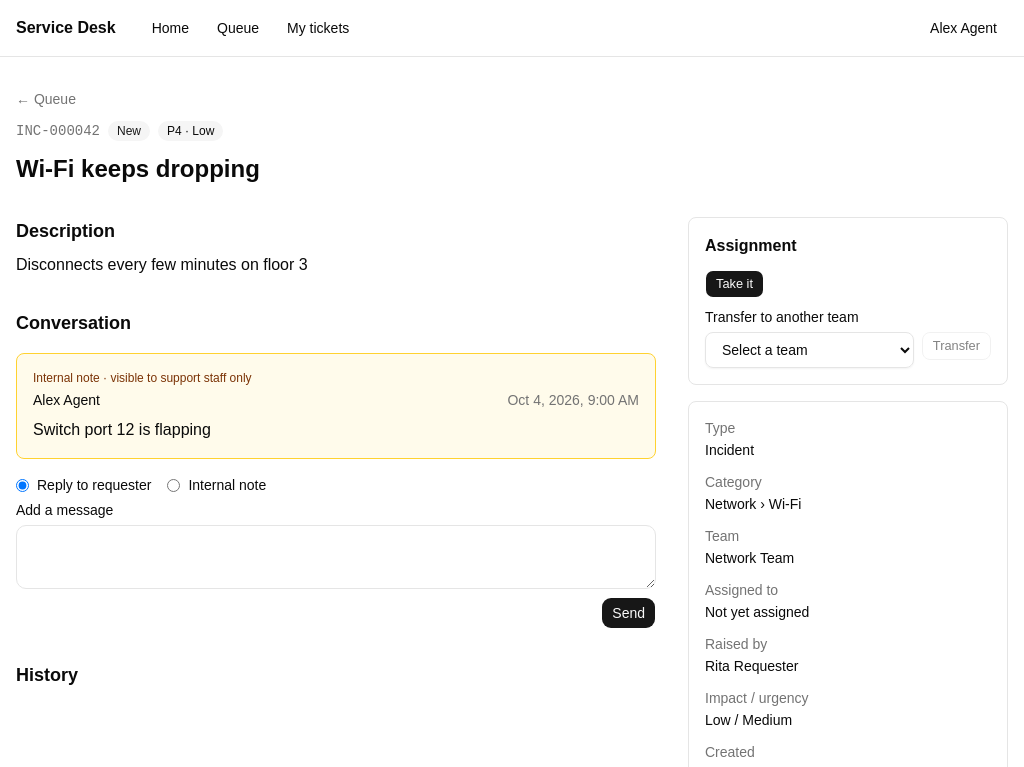
it: ticket page for support staff › takes an unassigned ticket from the team queue
This screenshot has width=1024, height=767.
Click the button "Take it" at (734, 284), box [705, 270, 764, 298]
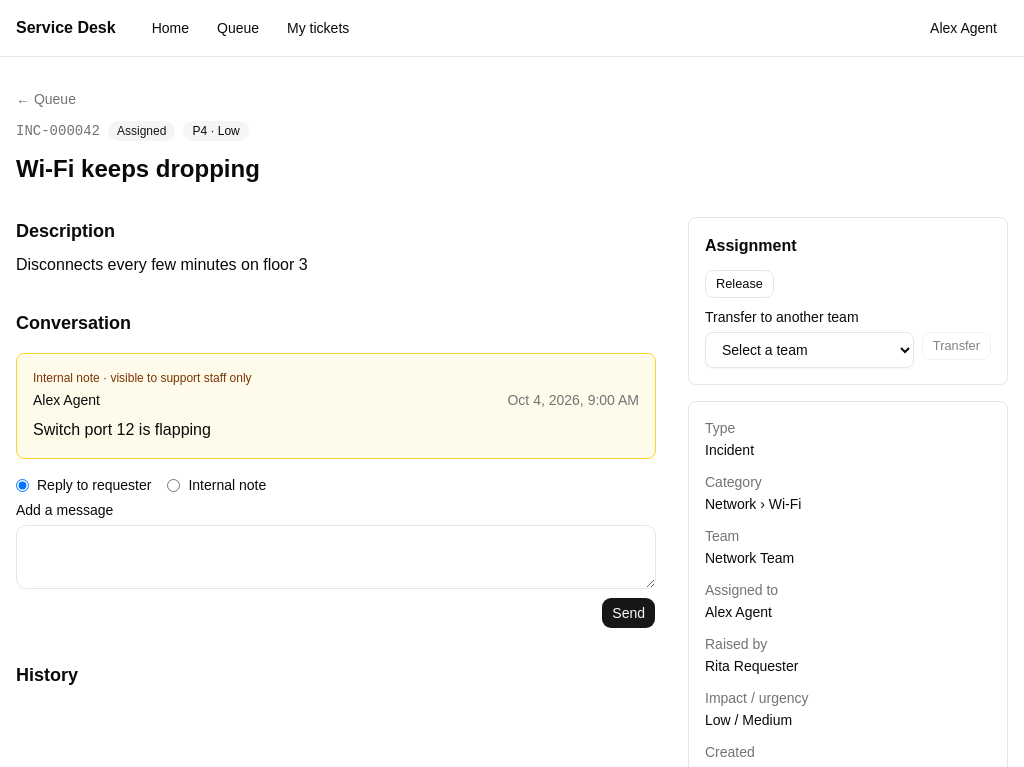
Expected: the button "Release" is shown, [705, 270, 774, 298]
